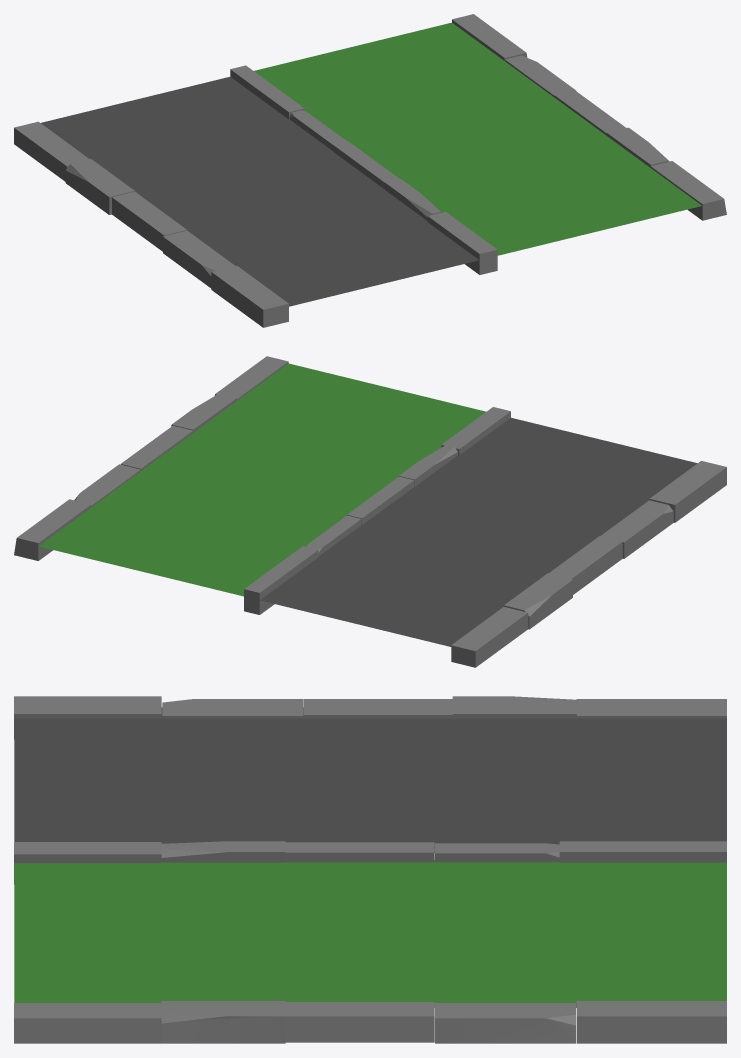
File: SM_pedestrian_walk_suburbs_01.fbx
The picture shows the model from 3 angles, top to bottom: view 1: azimuth 30°, elevation 25°; view 2: azimuth 150°, elevation 25°; view 3: azimuth 270°, elevation 25°; orthographic projection. The views are drawn at different scales.
Visible parts, largest first — view 1: Object178; view 2: Object178; view 3: Object178.
Part boxes in pixels (x1=…): Object178: x1=14, y1=14, x2=726, y2=327; Object178: x1=14, y1=356, x2=726, y2=667; Object178: x1=14, y1=696, x2=726, y2=1043.
Size of the model in its own units: 211 by 9.66 by 197.
